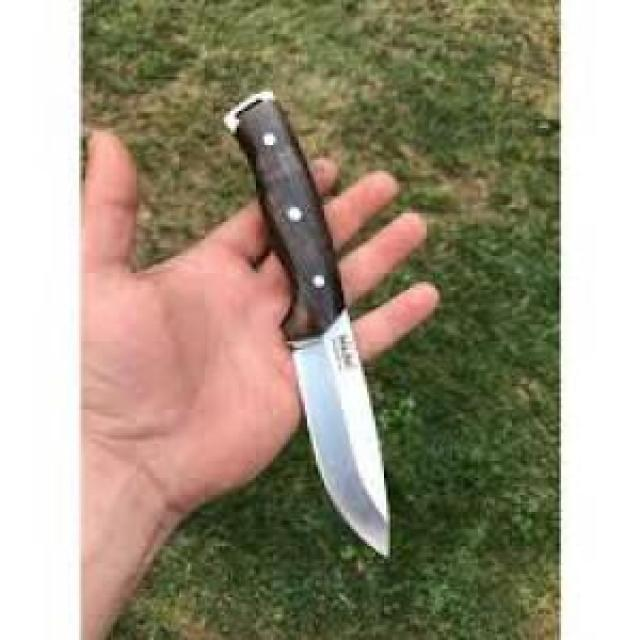knife: (226, 92, 397, 558)
